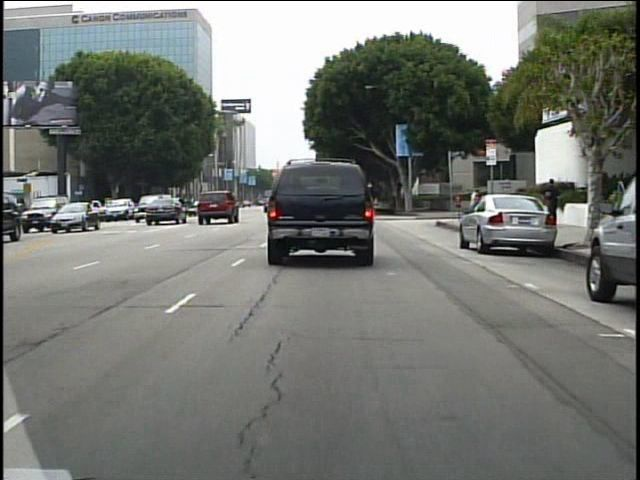person: (541, 174, 562, 214), (467, 185, 485, 225)
